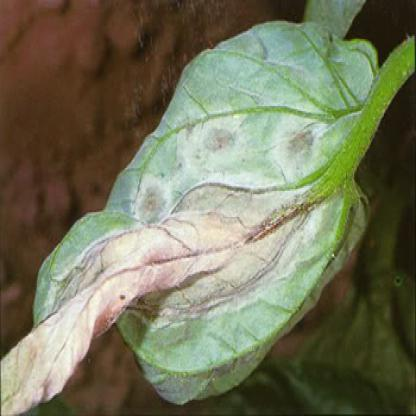tomato leaf late blight: (18, 23, 383, 400)
